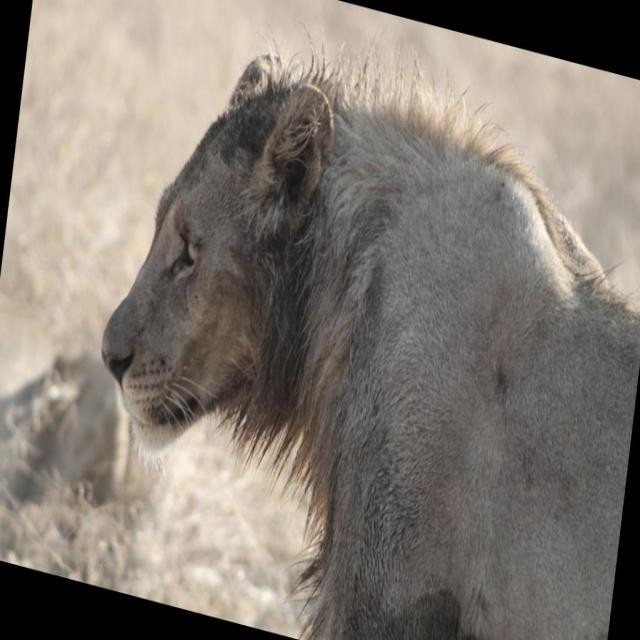Lion: (76, 0, 640, 639)
